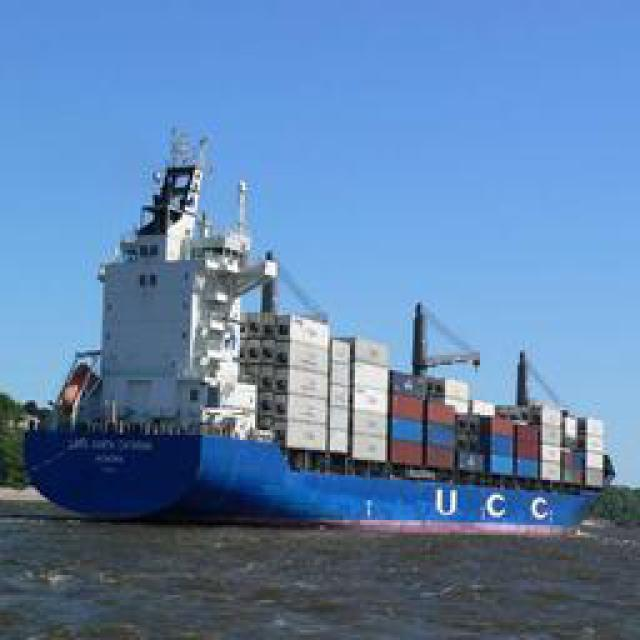Ship: (22, 117, 622, 530)
